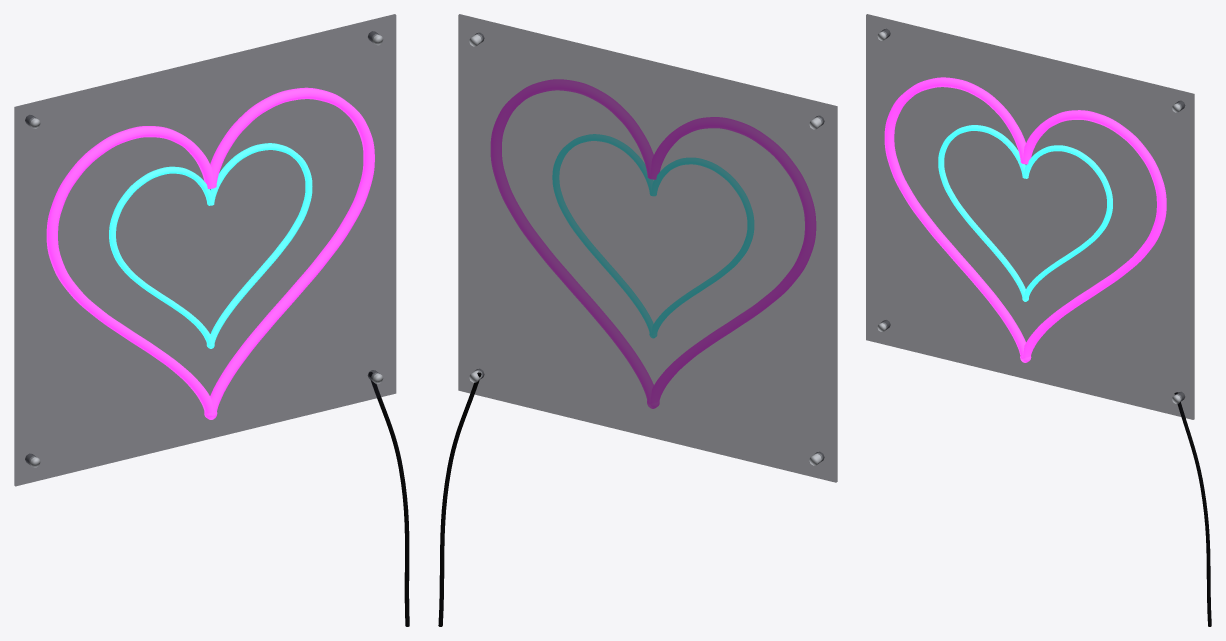
Rendered from klub_neon_serce.glb.
The picture shows the model from 3 angles, left to right: view 1: azimuth 30°, elevation 25°; view 2: azimuth 150°, elevation 25°; view 3: azimuth 330°, elevation 25°; orthographic projection. The views are drawn at different scales.
Visible parts, largest first — view 1: Plyta, SwiatloRoz, SwiatloCyan; view 2: Plyta, SwiatloRoz, SwiatloCyan; view 3: Plyta, SwiatloRoz, SwiatloCyan.
Part boxes in pixels (x1,y1,x2,y2): Plyta: (14, 14, 409, 626); SwiatloRoz: (46, 87, 374, 419); SwiatloCyan: (109, 143, 312, 348); Plyta: (438, 14, 837, 626); SwiatloRoz: (491, 79, 815, 408); SwiatloCyan: (552, 134, 753, 338); Plyta: (866, 14, 1211, 626); SwiatloRoz: (884, 77, 1166, 362); SwiatloCyan: (938, 125, 1112, 301).
Size of the model in its own units: 1.04 by 1.55 by 0.058.
